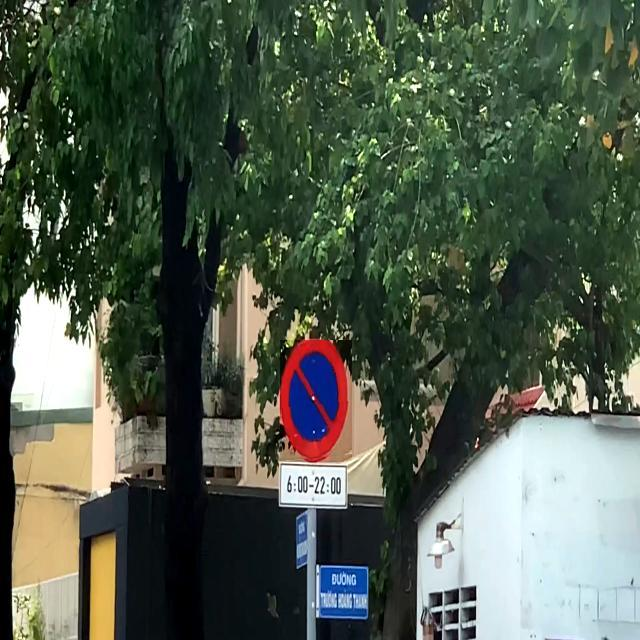P-131a: (280, 340, 352, 462)
